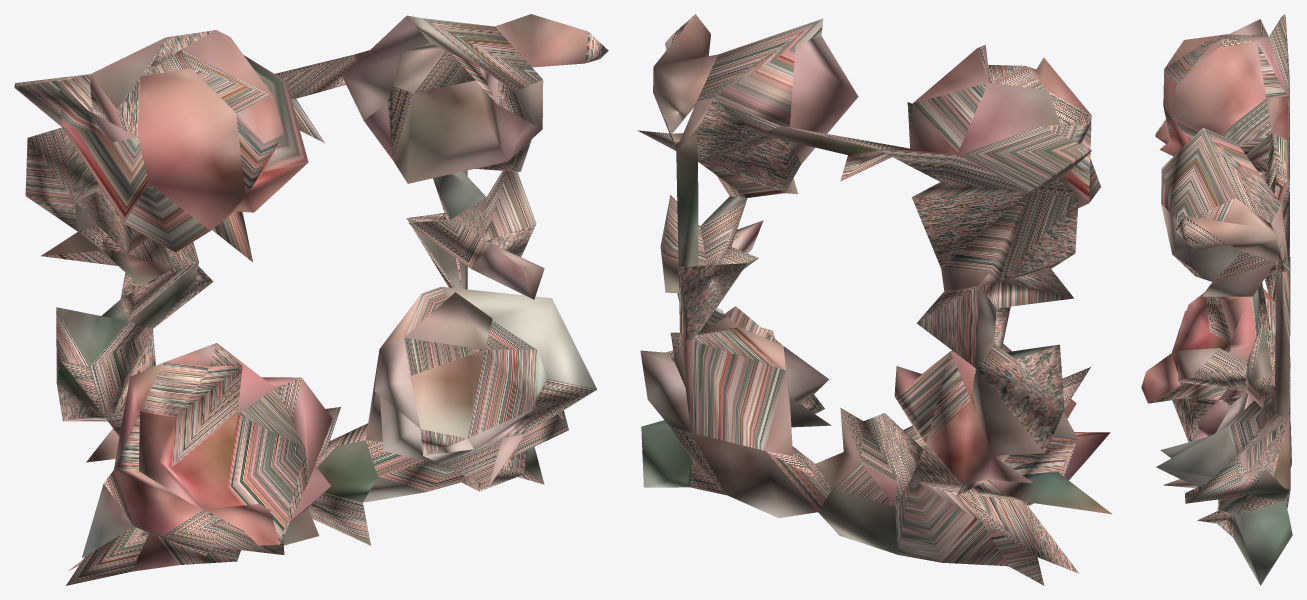
3 views of the same model, side by side, from view 1: azimuth 30°, elevation 25°; view 2: azimuth 150°, elevation 25°; view 3: azimuth 270°, elevation 25° (orthographic). The views are drawn at different scales.
Visible parts, largest first — view 1: Rose-Frame-9-19; view 2: Rose-Frame-9-19; view 3: Rose-Frame-9-19.
Part boxes in pixels (box(x1,y1,x2,y2)): Rose-Frame-9-19: box(14, 14, 608, 585); Rose-Frame-9-19: box(637, 14, 1112, 585); Rose-Frame-9-19: box(1141, 14, 1292, 585).
Size of the model in its own units: 0.2458 by 0.2493 by 0.0813.
1 material, 1 textured.
